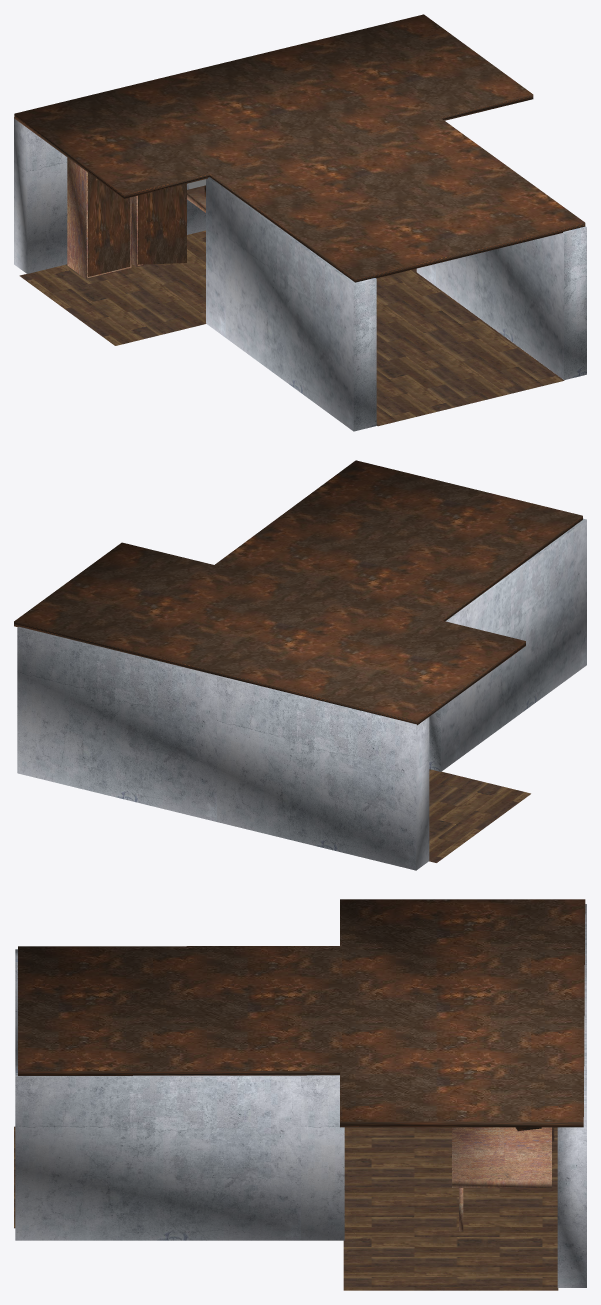
The model's file is mdl_room_01.obj.
3 views of the same model, one above another, from view 1: azimuth 30°, elevation 25°; view 2: azimuth 150°, elevation 25°; view 3: azimuth 270°, elevation 25° (orthographic). The views are drawn at different scales.
Parts seen in each view (by area): view 1: Line001, Box001, Plane001, Box002, Plane002, Box003, Plane006, Plane005, Box006; view 2: Line001, Box003, Box001, Plane002; view 3: Line001, Box002, Plane002, Box013, Box003.
Boxes of the visible parts, x1,y1,x2,y2 form: Line001: (14,14,585,282); Box001: (206,177,376,431); Plane001: (376,272,564,426); Box002: (416,226,586,380); Plane002: (19,230,416,345); Box003: (14,117,205,273); Plane006: (138,183,186,264); Plane005: (88,172,130,276); Box006: (67,157,131,279); Line001: (14,460,582,725); Box003: (17,627,429,870); Box001: (429,518,586,771); Plane002: (429,769,530,862); Line001: (18,899,585,1127); Box002: (15,1064,344,1240); Plane002: (343,1127,558,1290); Box013: (452,1127,551,1187); Box003: (557,904,586,1287).
Bounding box in the file's own units: 3.55 × 1.24 × 3.8.
